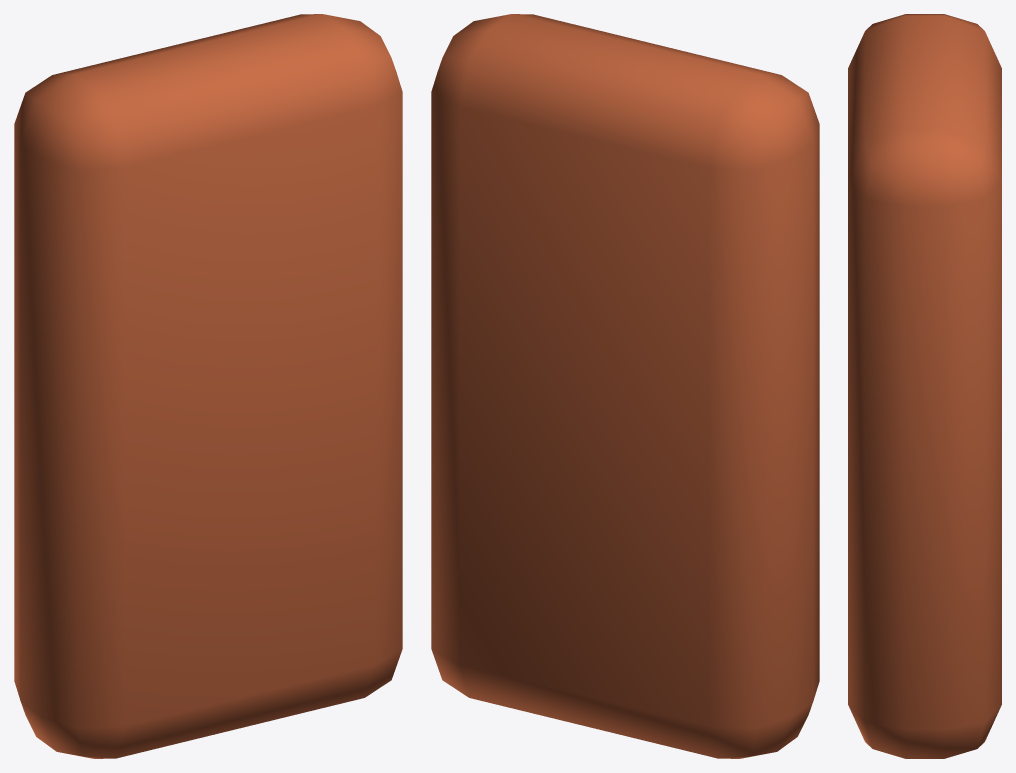
The model's file is tig_torch_flex_head_torch_button.glb.
The picture shows the model from 3 angles, left to right: view 1: azimuth 30°, elevation 25°; view 2: azimuth 150°, elevation 25°; view 3: azimuth 270°, elevation 25°; orthographic projection. The views are drawn at different scales.
Visible parts, largest first — view 1: tig_torch_flex_head_torch_button; view 2: tig_torch_flex_head_torch_button; view 3: tig_torch_flex_head_torch_button.
Part boxes in pixels (<box>): tig_torch_flex_head_torch_button: <box>14,14,402,758</box>; tig_torch_flex_head_torch_button: <box>431,14,819,758</box>; tig_torch_flex_head_torch_button: <box>848,14,1001,758</box>.
Bounding box in the file's own units: 0.01 × 0.018 × 0.004.
